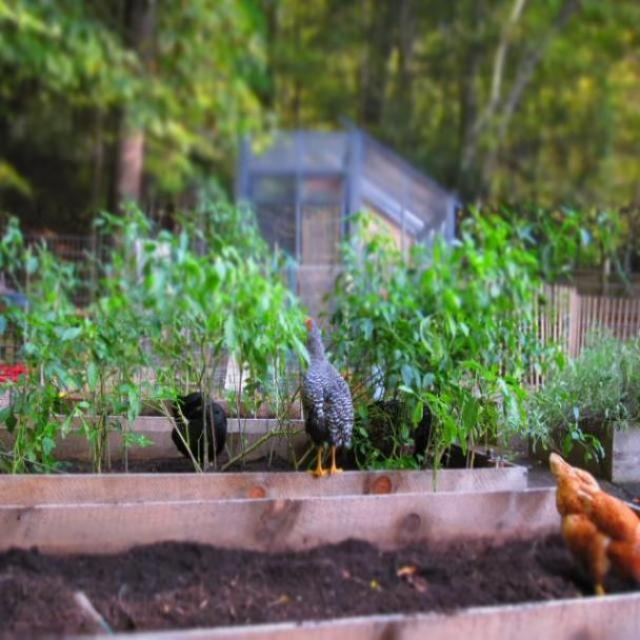Chicken: (547, 451, 637, 592), (305, 314, 351, 476), (172, 391, 228, 462)
